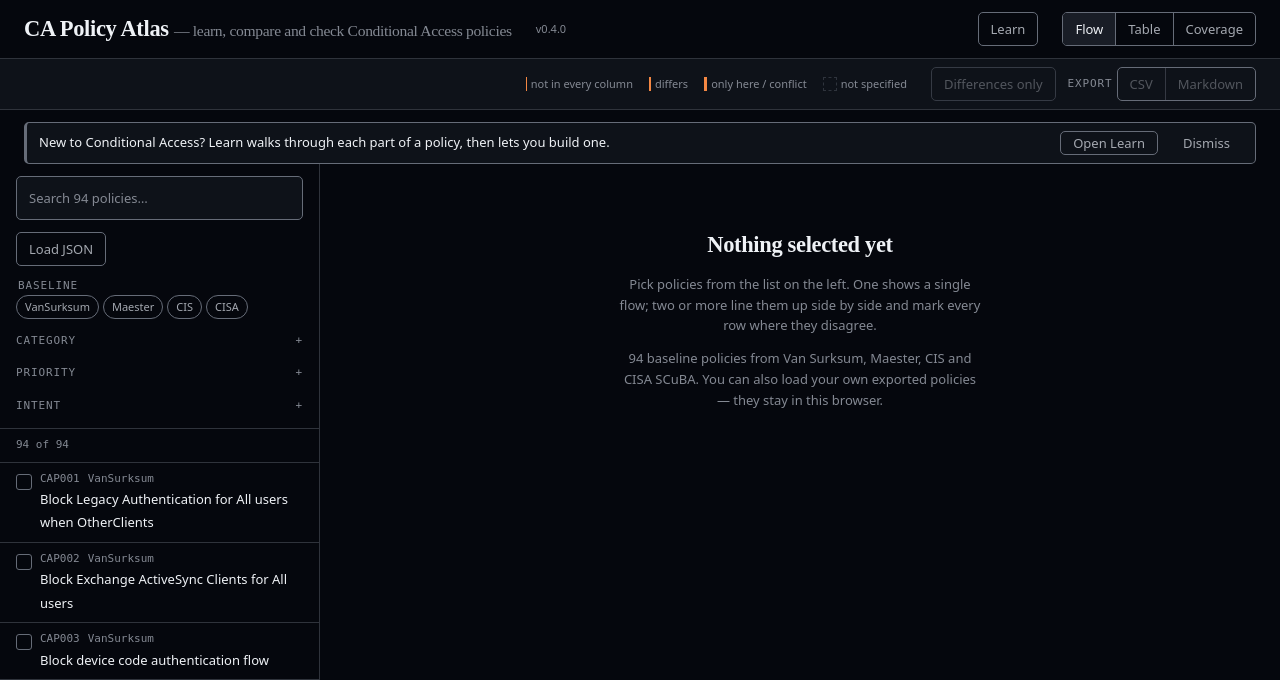
learn mode › opens on Anatomy and steps through the ranks
Step 1. Click the button "Learn" → (1008, 29), box [978, 12, 1038, 46]
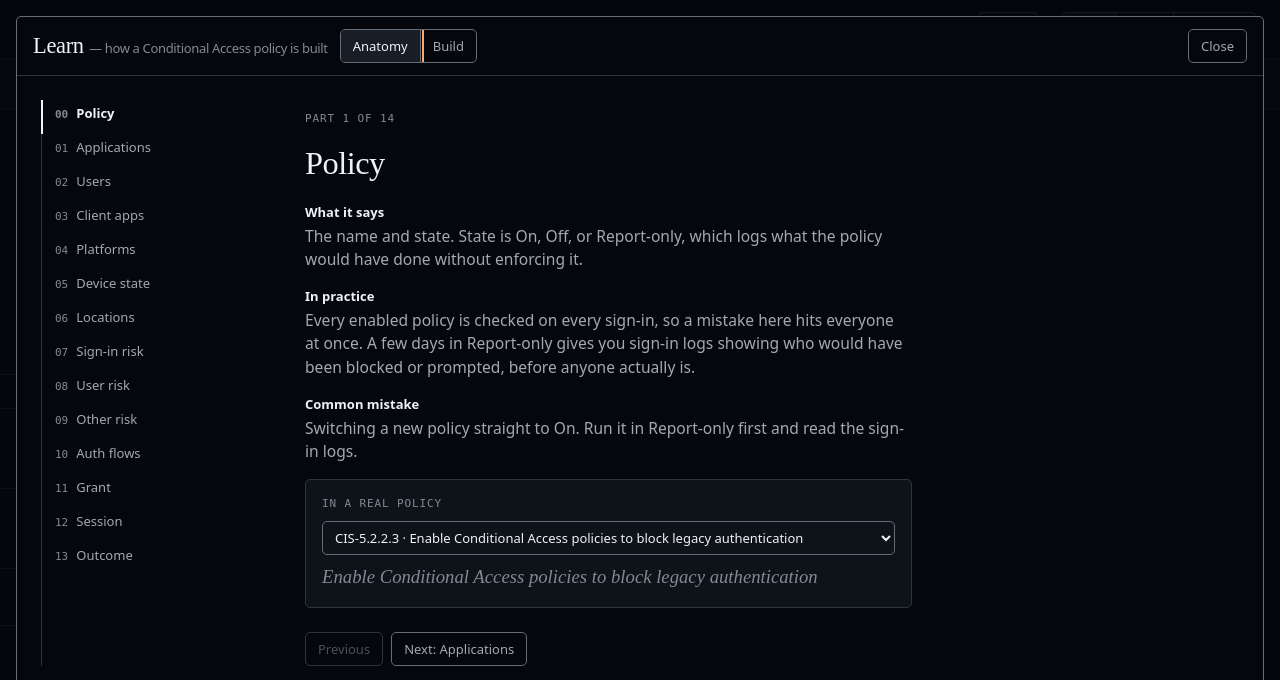
expect the heading with class "anatomy-title" reads "Policy": met, box [305, 144, 385, 180]
Step 2. Click the button "Next: Applications" → (459, 649), box [391, 632, 527, 666]
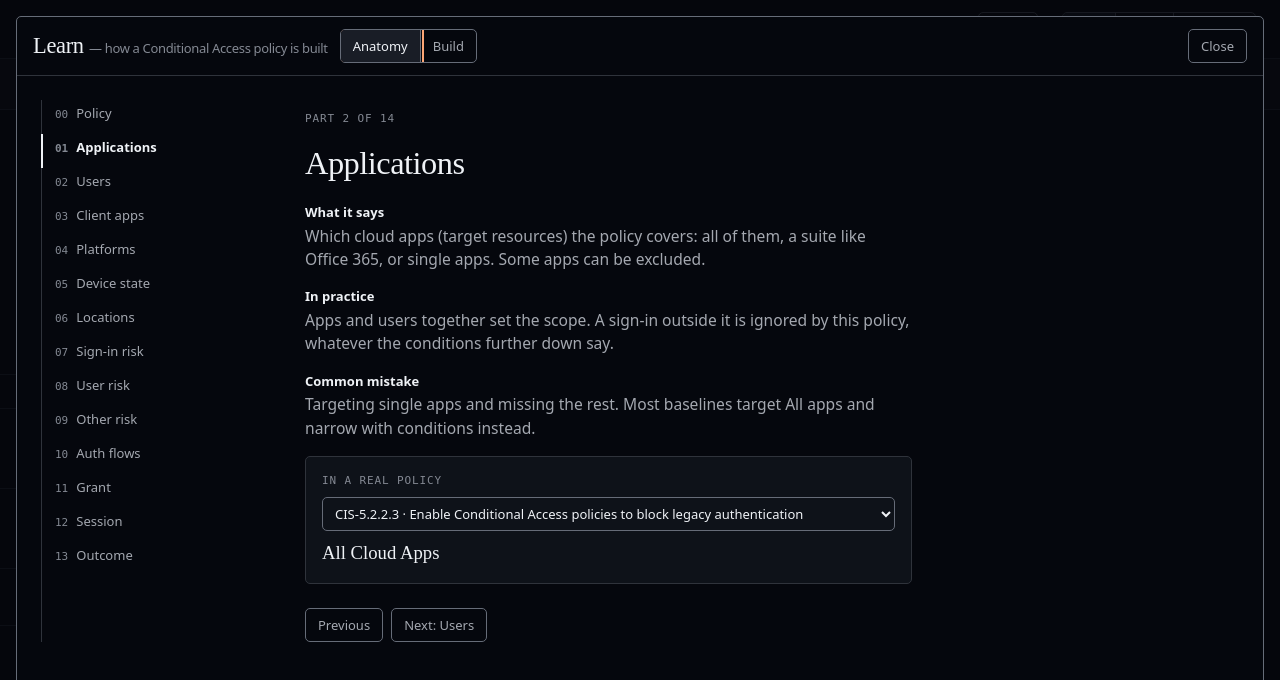
expect the heading with class "anatomy-title" reads "Applications": met, box [305, 144, 464, 180]
expect the text with class "anatomy-sample-line" reads "All Cloud Apps": met, box [322, 542, 439, 563]
